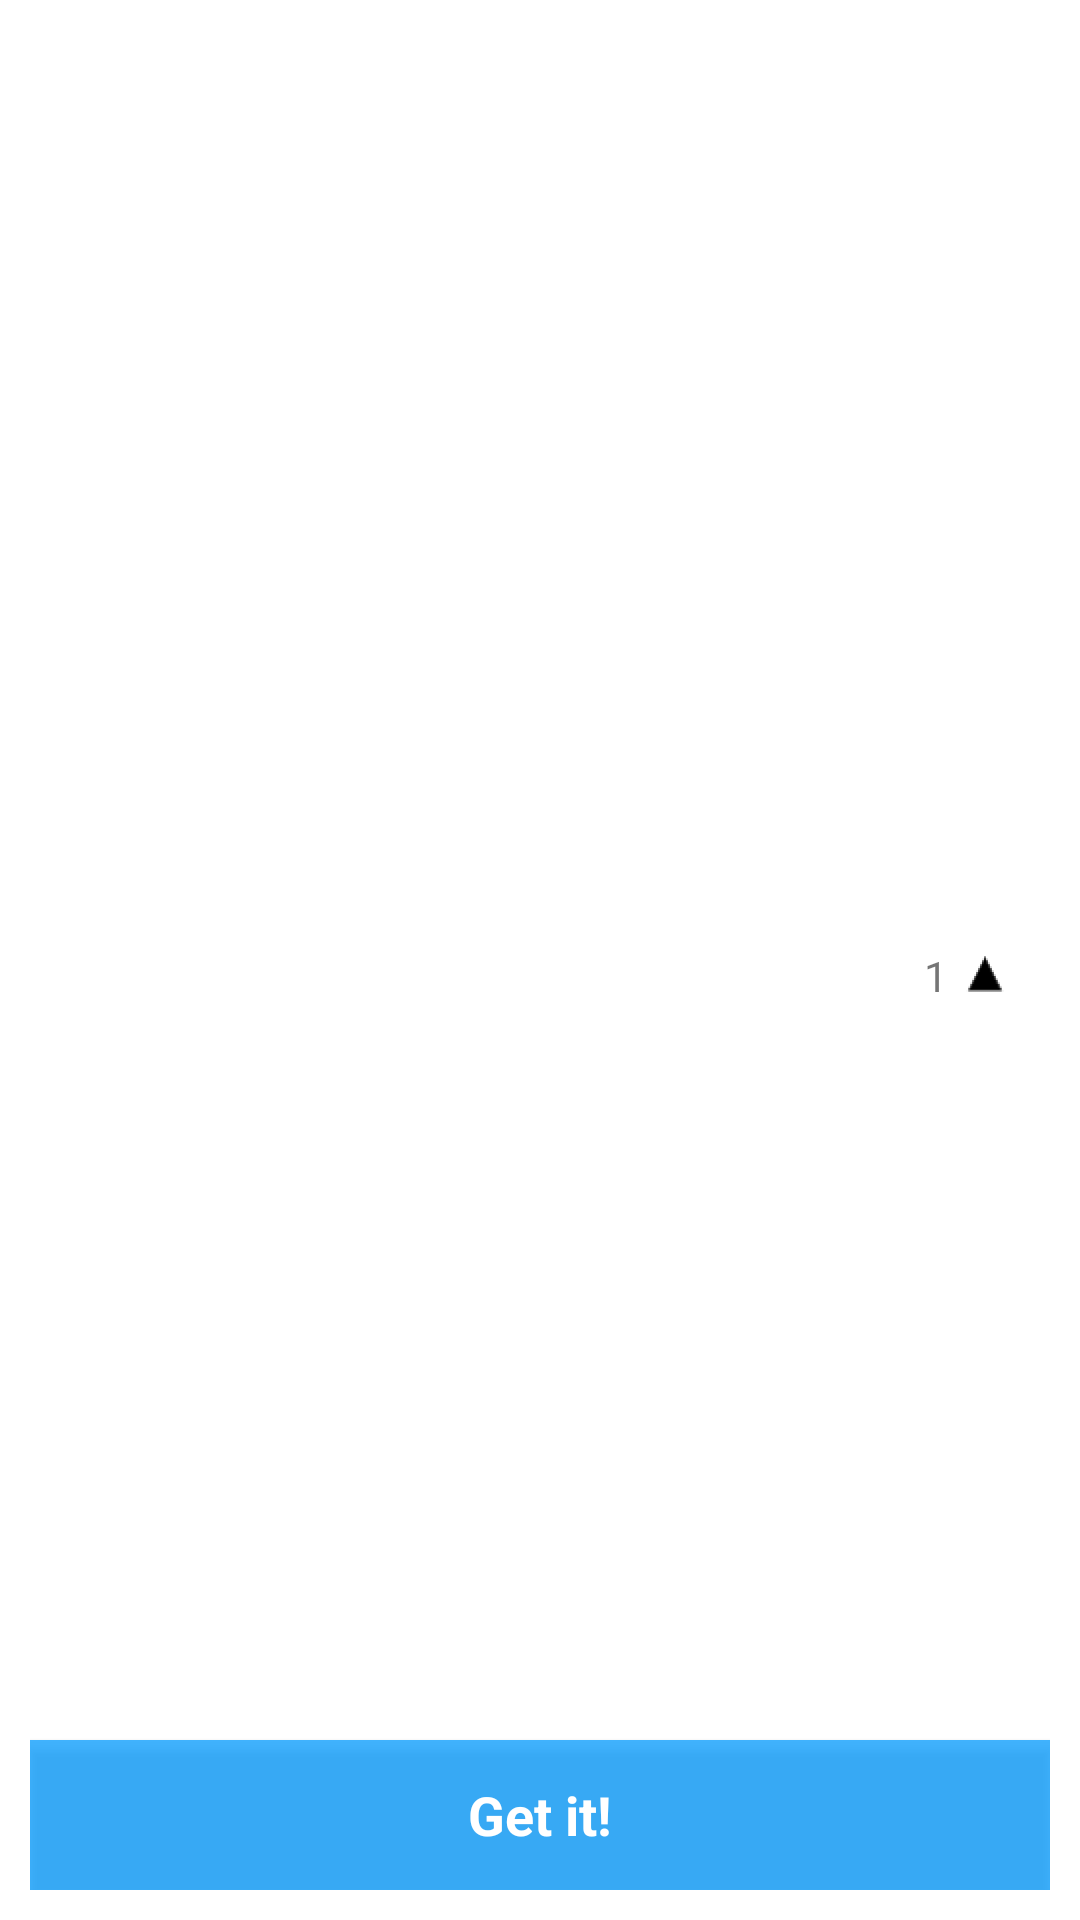

Point at icon controls on the screen. Image size 1080px×1920px, points as [x,y].
vote: [985,974]
